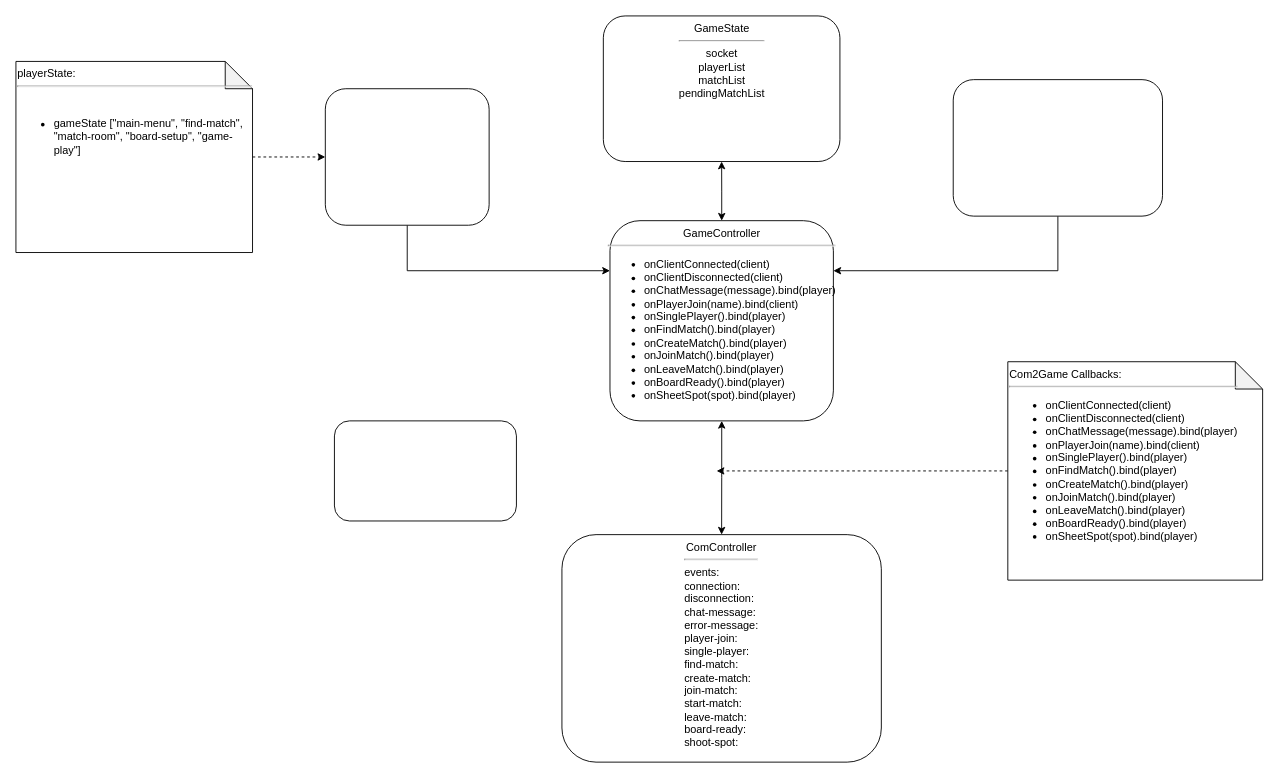
Image size: 1279x779. Some labels were removed from this diagram. Each missing label, with the centre of its shape:
MatchState matchState players [2]: (1057,147)
Pages onEnter(player) onLeave(player): (425,470)
Player name socketClient playerState: (406,156)
